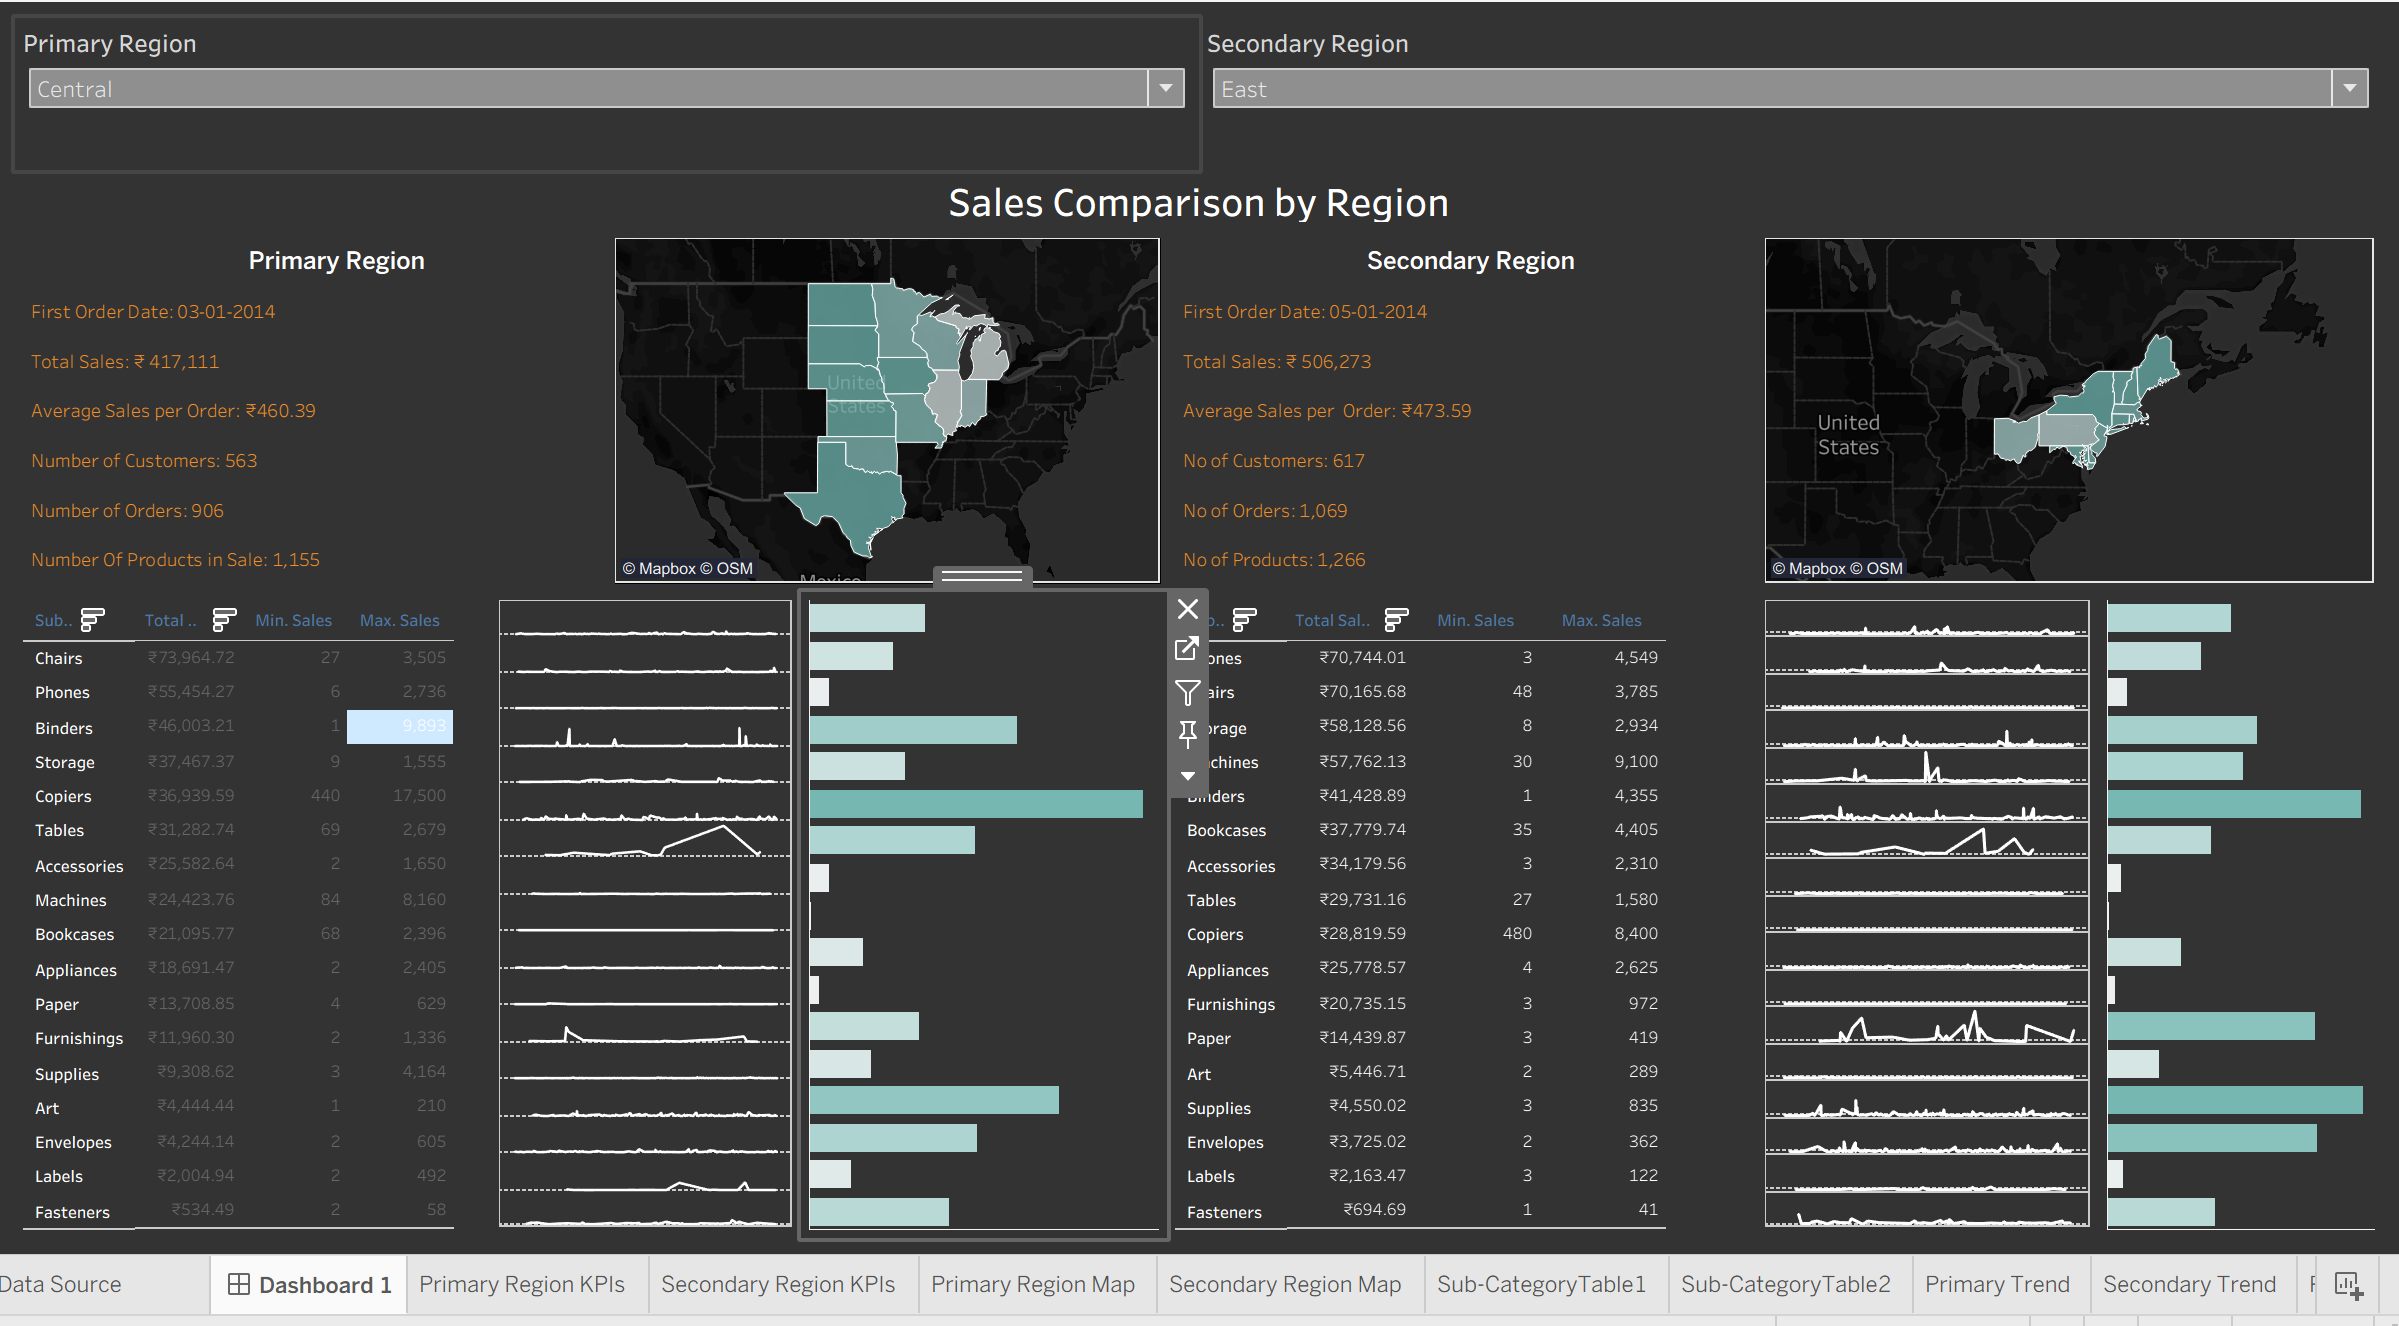

The dashboard page shown, as its layout file describes it:
{"tool":"tableau","page":{"name":"Dashboard 1","canvas":[1000,1000],"units":"permille","ordinal":0},"visuals":[{"type":"parameter","param":"[Parameters].[Parameter 1]","box":[6.7,12.8,493.3,121.8]},{"type":"parameter","param":"[Parameters].[Parameter 2]","box":[500,12.8,493.3,121.8]},{"type":"title","box":[6.7,134.6,986.7,48.3]},{"type":"worksheet","title":"Primary Region KPIs","mark":"Text","box":[6.7,182.8,246.4,288.5]},{"type":"worksheet","title":"Primary Region Map","mark":"Multipolygon","box":[253.1,182.8,234,288.5]},{"type":"worksheet","title":"Secondary Region KPIs","mark":"Automatic","box":[487.1,182.8,245.7,288.5]},{"type":"worksheet","title":"Secondary Region Map","mark":"Multipolygon","box":[732.7,182.8,260.6,288.5]},{"type":"worksheet","title":"Sub-CategoryTable1","mark":"Text","rows":["Sub-Category"],"box":[6.7,471.3,198.3,515.9]},{"type":"worksheet","title":"Primary Trend","mark":"Line","rows":["Sub-Category","Sales"],"cols":["Order Date"],"box":[205,471.3,129.2,515.9]},{"type":"worksheet","title":"Primary Bar Chart","mark":"Automatic","rows":["Sub-Category"],"cols":["Sales"],"box":[334.2,471.3,152.9,515.9]},{"type":"worksheet","title":"Sub-CategoryTable2","mark":"Text","rows":["Sub-Category"],"box":[487.1,471.3,245.6,515.9]},{"type":"worksheet","title":"Secondary Trend","mark":"Line","rows":["Sub-Category","Sales"],"cols":["Order Date"],"box":[732.7,471.3,142.5,515.9]},{"type":"worksheet","title":"Secondary Bar Chart","mark":"Automatic","rows":["Sub-Category"],"cols":["Sales"],"box":[875.2,471.3,118.1,515.9]}]}

Visuals, with their boxes on the dashboard's canvas, which has no fixed pixel size, in thousandths of its width and height (x1, y1, x2, y2). These are canvas units, not pixel positions in the 2399x1326 screenshot, which may show the page scaled, cropped or inside an application window:
parameter: x1=7 y1=13 x2=500 y2=135
parameter: x1=500 y1=13 x2=993 y2=135
title: x1=7 y1=135 x2=993 y2=183
"Primary Region KPIs" worksheet (Text marks): x1=7 y1=183 x2=253 y2=471
"Primary Region Map" worksheet (Multipolygon marks): x1=253 y1=183 x2=487 y2=471
"Secondary Region KPIs" worksheet: x1=487 y1=183 x2=733 y2=471
"Secondary Region Map" worksheet (Multipolygon marks): x1=733 y1=183 x2=993 y2=471
"Sub-CategoryTable1" worksheet (Text marks): x1=7 y1=471 x2=205 y2=987
"Primary Trend" worksheet (Line marks): x1=205 y1=471 x2=334 y2=987
"Primary Bar Chart" worksheet: x1=334 y1=471 x2=487 y2=987
"Sub-CategoryTable2" worksheet (Text marks): x1=487 y1=471 x2=733 y2=987
"Secondary Trend" worksheet (Line marks): x1=733 y1=471 x2=875 y2=987
"Secondary Bar Chart" worksheet: x1=875 y1=471 x2=993 y2=987
